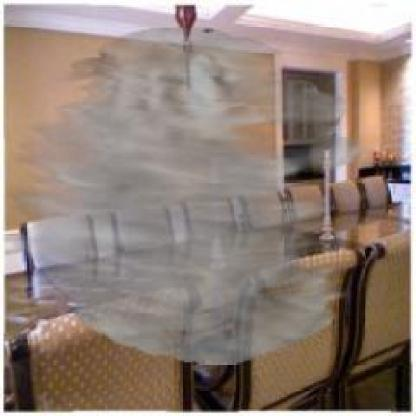Smoke: (9, 26, 362, 364)
